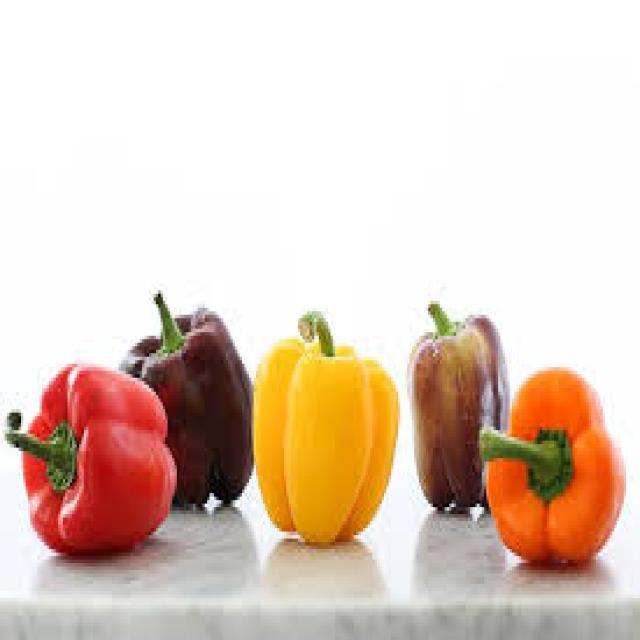Bell pepper: (3, 346, 187, 580), (247, 304, 404, 568), (119, 278, 274, 538), (478, 355, 600, 570), (404, 290, 512, 524)
